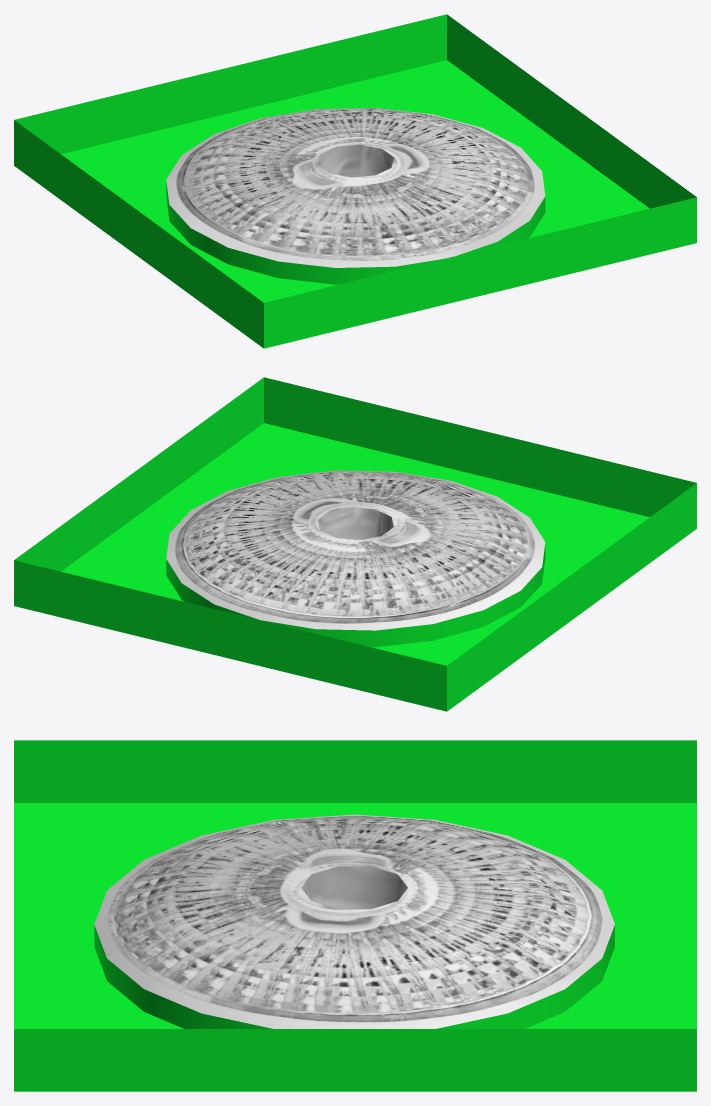
The model's file is LightCeiling01_7.FBX.
3 renders of one model, top to bottom at view 1: azimuth 30°, elevation 25°; view 2: azimuth 150°, elevation 25°; view 3: azimuth 270°, elevation 25°, orthographic. The views are drawn at different scales.
Parts seen in each view (by area): view 1: LightCeiling01_7; view 2: LightCeiling01_7; view 3: LightCeiling01_7.
Boxes of the visible parts, bbox=[...] form: LightCeiling01_7: bbox=[14, 14, 696, 348]; LightCeiling01_7: bbox=[14, 377, 696, 711]; LightCeiling01_7: bbox=[14, 740, 696, 1091].
Bounding box in the file's own units: 15 × 1.52 × 15.
